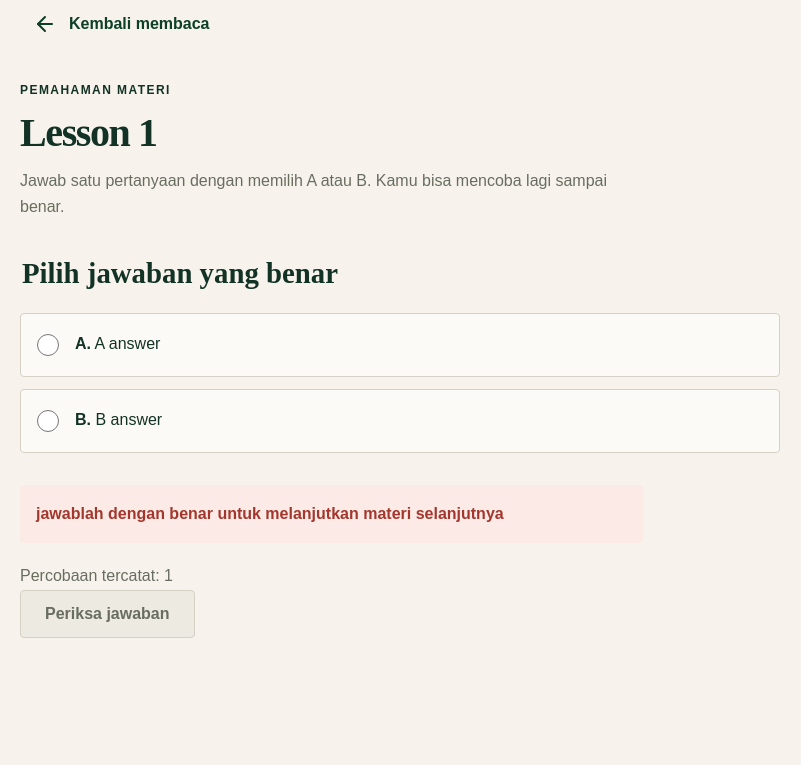
lost acknowledgement plus failed quiz reconciliation keeps the owner guard until deliberate discard
Expected: the text "Pilih jawaban yang benar" is shown, [20,253,340,293]
Click the radio button labelled "B. B answer" at (48, 421), box [37,410,59,432]
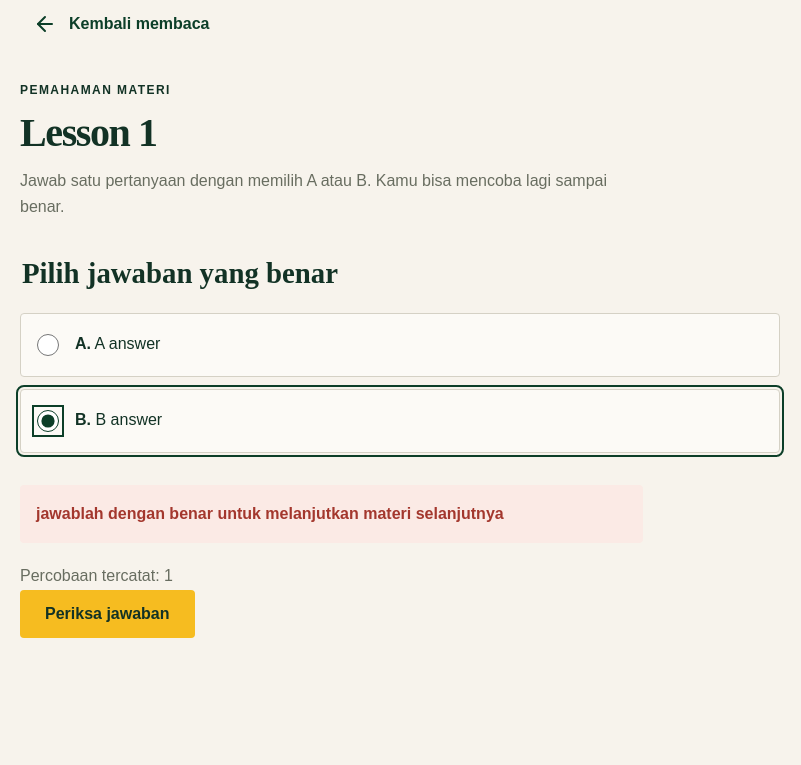
Click the button "Periksa jawaban" at (107, 614), box [20,590,194,638]
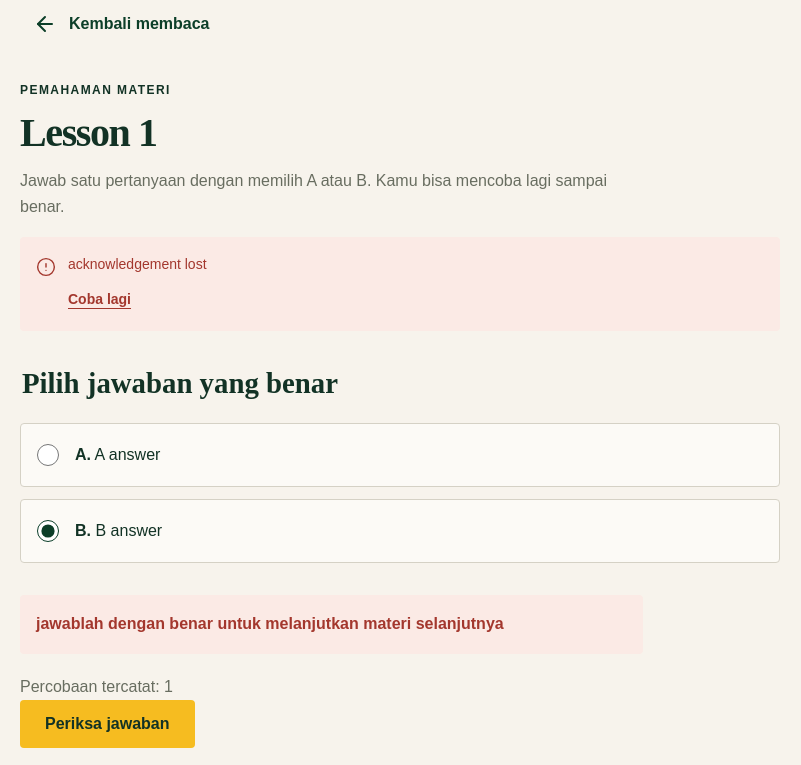
Expected: the radio button labelled "B. B answer" is checked, [37,520,59,542]
Expected: the text "acknowledgement lost" is shown, [68,253,206,275]
